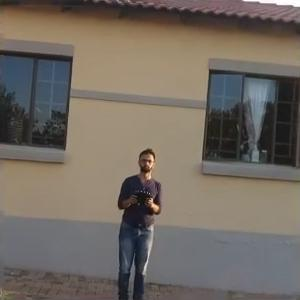follow: (113, 147, 166, 298)
